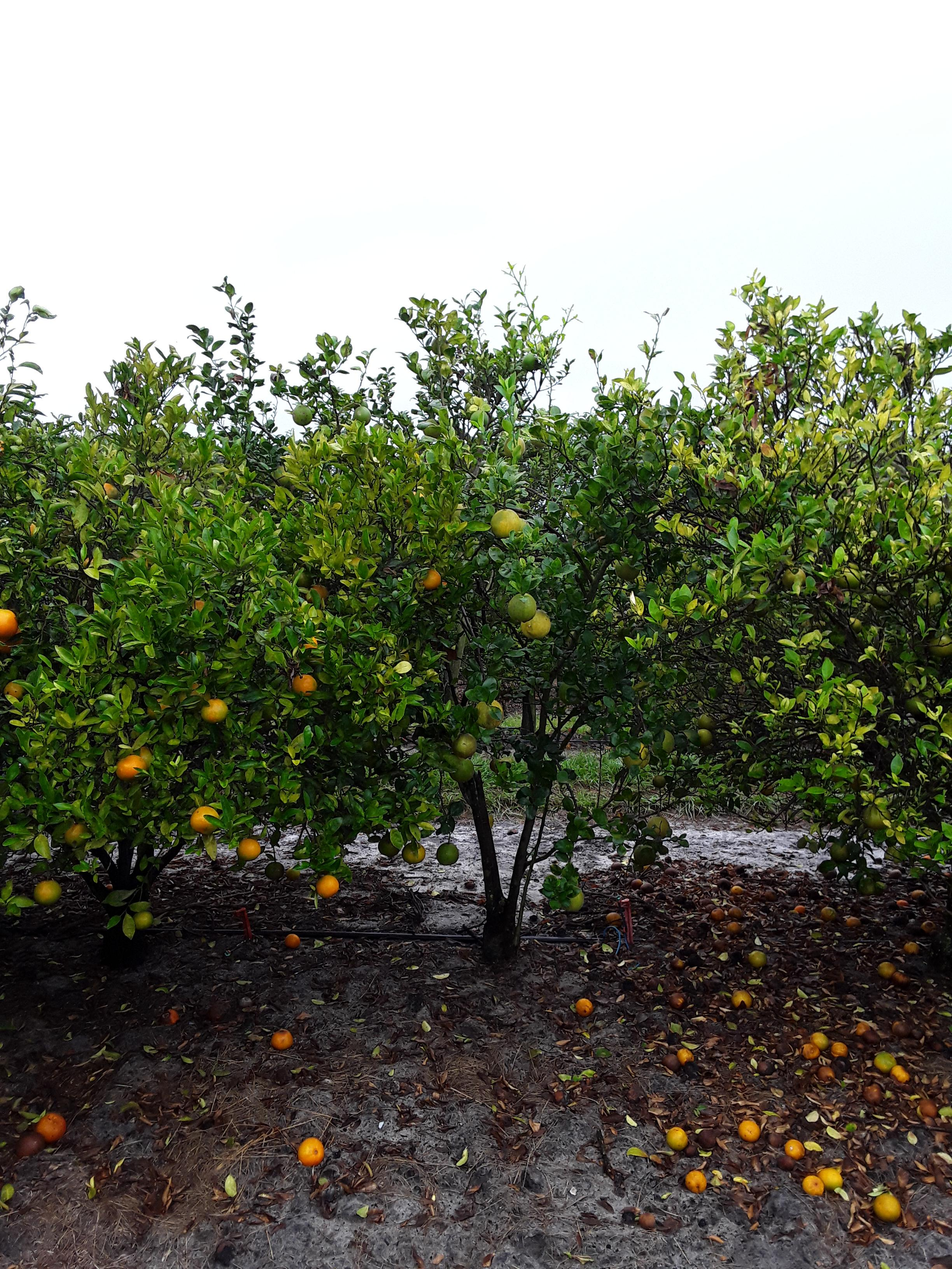fruit_on_ground: (471, 695, 508, 730), (488, 507, 526, 540), (119, 544, 159, 575), (520, 609, 555, 641), (505, 590, 538, 623), (31, 876, 64, 908), (189, 804, 222, 835), (198, 695, 231, 725), (831, 560, 863, 590), (861, 801, 893, 831), (143, 691, 176, 720), (115, 753, 147, 782), (61, 819, 92, 848), (179, 674, 212, 701), (558, 885, 587, 914), (621, 741, 651, 769), (779, 562, 809, 590), (447, 756, 477, 783), (925, 631, 952, 660), (450, 732, 479, 759), (0, 604, 21, 641), (290, 671, 318, 698), (126, 905, 155, 931), (290, 401, 317, 428), (400, 839, 427, 866), (867, 585, 896, 610), (435, 839, 461, 866), (644, 813, 671, 839), (315, 872, 341, 899), (612, 557, 640, 582), (651, 726, 676, 754), (133, 744, 158, 771), (903, 691, 930, 716), (375, 831, 400, 858), (97, 478, 125, 502), (236, 836, 262, 861), (419, 565, 443, 592), (461, 394, 485, 420), (632, 843, 658, 867), (502, 436, 528, 460), (22, 517, 46, 542), (2, 677, 27, 701), (306, 581, 331, 605), (856, 876, 883, 898), (186, 594, 210, 617), (352, 401, 375, 425), (296, 632, 320, 655), (828, 840, 850, 862), (691, 727, 715, 747), (264, 860, 286, 881), (421, 419, 444, 439), (519, 351, 540, 372), (293, 570, 315, 590), (430, 334, 450, 355), (695, 712, 717, 731), (795, 835, 816, 852), (650, 770, 668, 788), (756, 780, 775, 797), (284, 865, 303, 882), (0, 432, 10, 461), (847, 615, 865, 631), (0, 640, 15, 659), (806, 837, 822, 853)
fruit_on_tree: (34, 1109, 68, 1143), (296, 1134, 327, 1169), (871, 1191, 903, 1224), (14, 1130, 46, 1159), (663, 1124, 689, 1152), (818, 1164, 844, 1191), (683, 1168, 709, 1194), (736, 1117, 762, 1143), (269, 1026, 296, 1051), (156, 1005, 181, 1028), (730, 988, 755, 1011), (784, 1137, 807, 1161), (693, 1126, 718, 1148), (801, 1173, 824, 1196), (746, 948, 769, 970), (861, 1084, 884, 1105), (572, 996, 595, 1017), (873, 1051, 895, 1072), (917, 1097, 938, 1118), (809, 1028, 830, 1048), (660, 1215, 682, 1234), (875, 958, 895, 978), (636, 1210, 657, 1229), (800, 1040, 821, 1059), (668, 991, 688, 1010), (891, 1064, 911, 1083), (829, 1039, 849, 1058), (816, 1063, 836, 1082), (676, 1047, 696, 1066), (282, 931, 302, 950), (891, 1019, 910, 1038), (620, 1204, 640, 1222), (668, 1050, 688, 1068), (893, 968, 912, 986), (756, 1059, 776, 1076), (776, 1155, 796, 1172), (863, 1028, 883, 1044), (99, 877, 117, 894), (819, 905, 837, 922), (854, 1019, 873, 1035), (766, 1132, 783, 1148), (603, 910, 621, 925), (902, 940, 920, 955), (920, 918, 938, 933), (669, 955, 685, 971), (725, 919, 742, 934), (710, 906, 726, 921), (844, 914, 861, 928), (712, 937, 728, 951), (641, 880, 657, 894), (761, 888, 777, 902), (717, 876, 733, 890), (728, 905, 744, 919), (607, 860, 624, 873), (908, 888, 925, 901), (803, 887, 819, 900), (786, 884, 802, 897), (728, 882, 744, 895), (629, 878, 644, 891), (792, 903, 807, 916), (893, 897, 909, 908), (463, 876, 477, 888)
